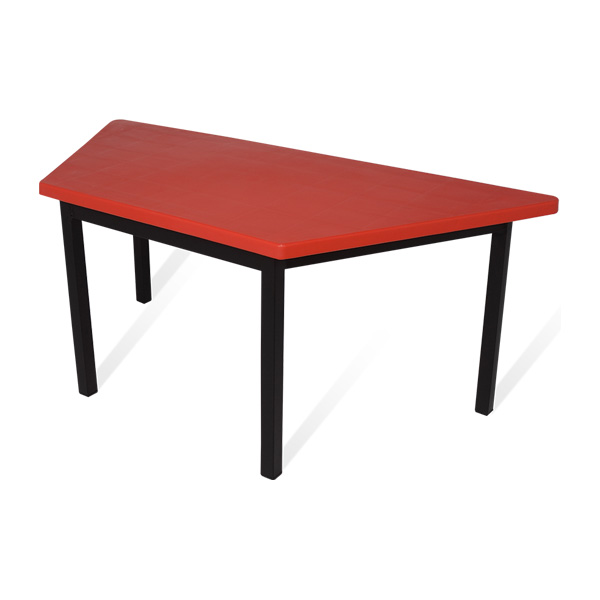m01: (40, 119, 559, 480)
